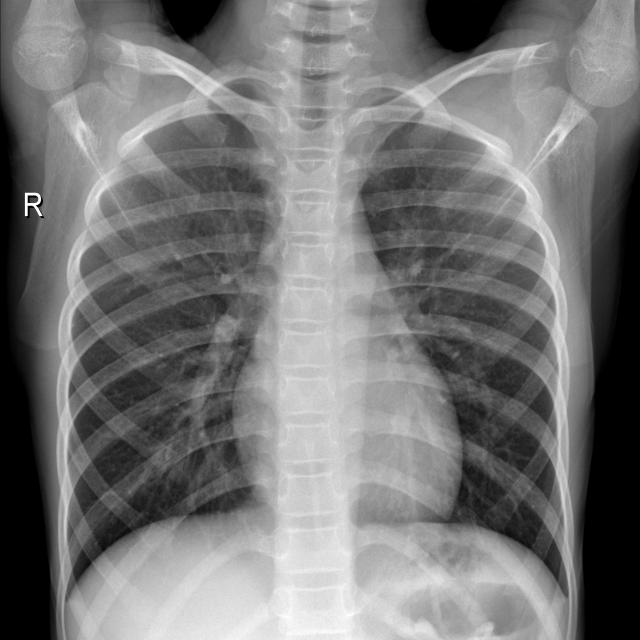no-pneumonia: (60, 110, 280, 602), (361, 121, 567, 585)
